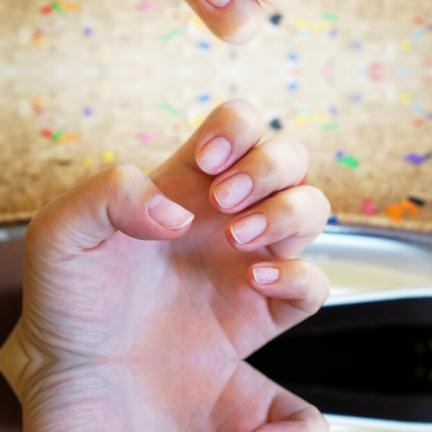Nail: (148, 195, 194, 230), (212, 173, 252, 209), (196, 136, 233, 174), (230, 214, 267, 244), (252, 267, 279, 285), (206, 0, 231, 8)
